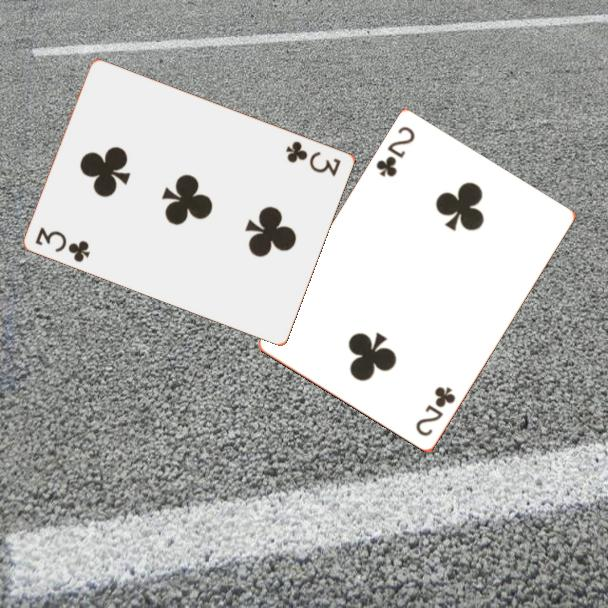c02: (412, 383, 459, 440), (372, 123, 418, 180)
c03: (282, 137, 344, 179), (32, 223, 93, 265)
